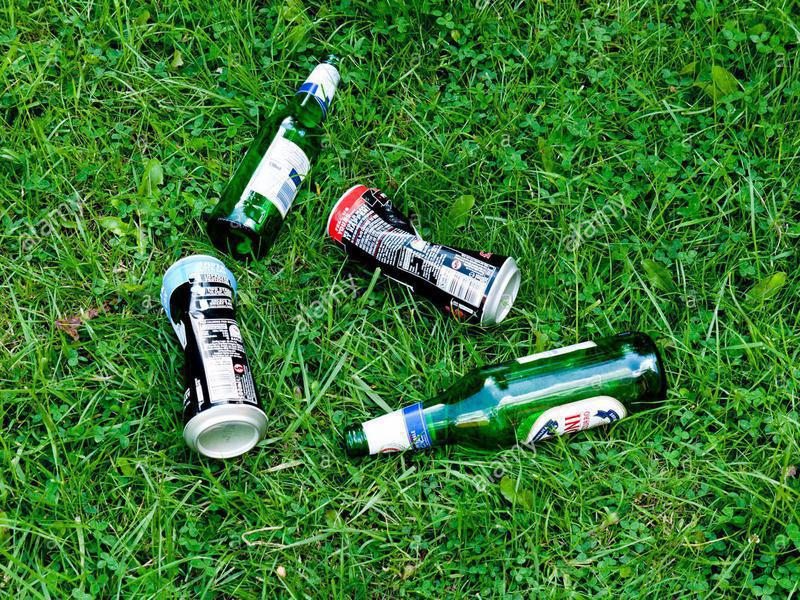bottle: (337, 324, 673, 462), (194, 45, 345, 263)
can: (316, 173, 527, 333), (155, 254, 279, 464)
